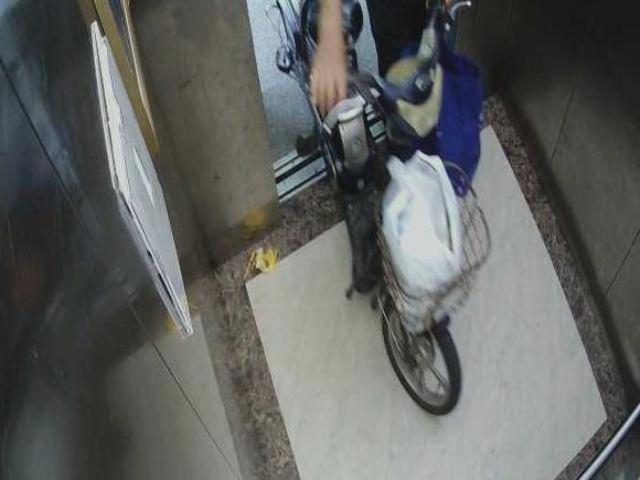emotor: (266, 7, 451, 387)
